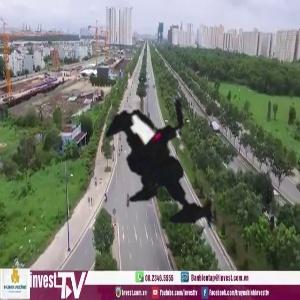drone: (63, 53, 282, 272)
